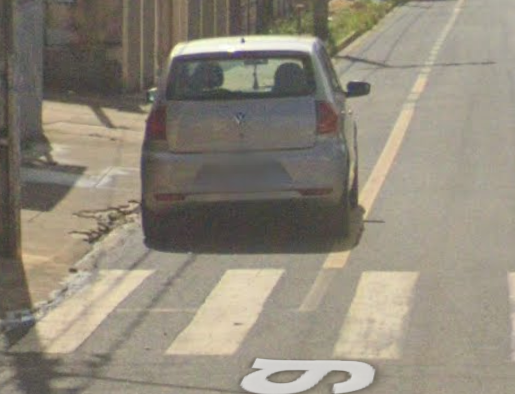car: (133, 35, 373, 232)
